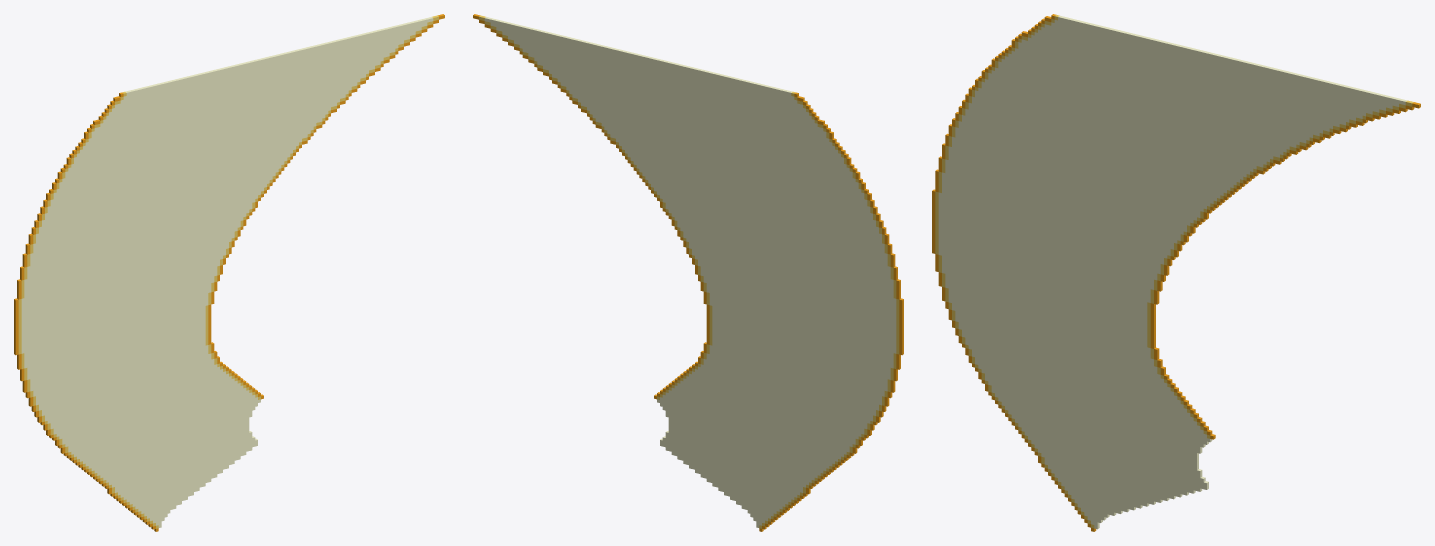
Rendered from Fight_029_2_04_fx.obj.
3 renders of one model, left to right at view 1: azimuth 30°, elevation 25°; view 2: azimuth 150°, elevation 25°; view 3: azimuth 330°, elevation 25°, orthographic. The views are drawn at different scales.
Bounding box in the file's own units: 14.7 × 14.6 × 0.1.
Materials: 1 (1 with a texture image).
